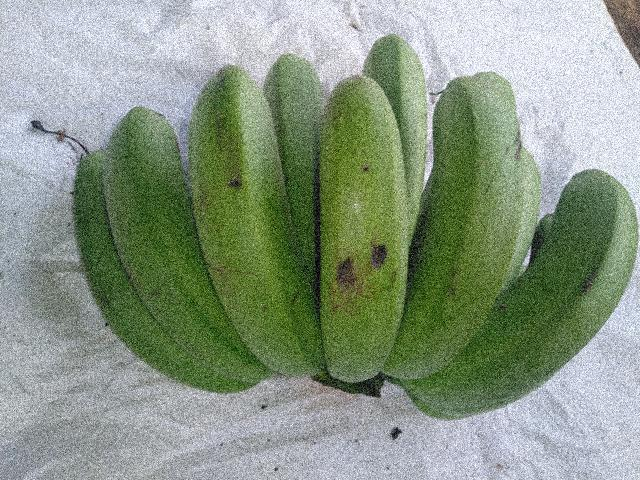unripe: (438, 162, 637, 460), (185, 49, 318, 422), (399, 69, 530, 420), (301, 69, 418, 415), (99, 93, 243, 368)
